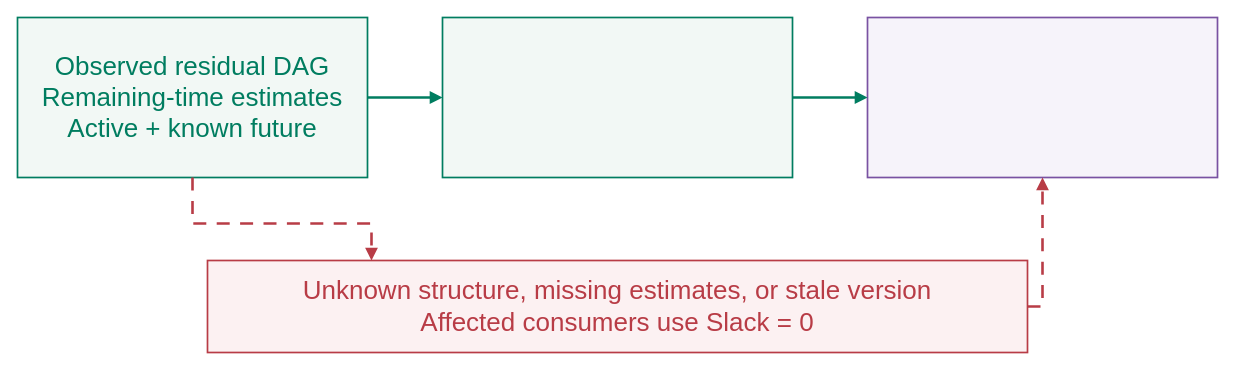
The diagram is 1236 pixels wide and 381 high, and some of its shapes have lost their labels. The shapes that lost their labels are listed below. From the top down, each one's centre as x and y in pixels, then its label:
(x=617, y=97): Forward / backward CPM Slack = max(LS − ES − m, 0) Structural nodes cost zero
(x=1042, y=97): Versioned Slack ticket Consumer + DAG version Issue time + expiry
